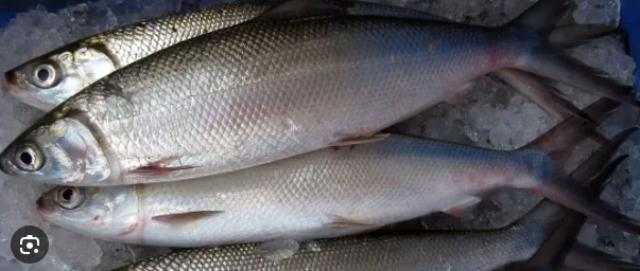Mulut: (26, 192, 80, 238), (0, 66, 28, 104)
Sirip Anal: (431, 188, 487, 228)
Sirip Dada: (113, 148, 210, 198), (148, 204, 226, 236)
Sirip Ekor: (510, 88, 640, 238)
Sirip Perut: (311, 122, 397, 158), (312, 208, 381, 248)
